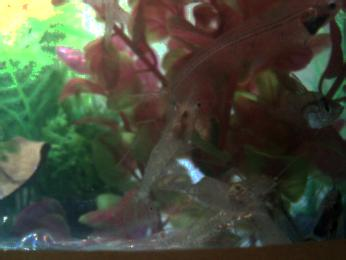glassfish: (143, 1, 346, 117)
siberian prawn: (132, 96, 201, 220), (159, 171, 271, 217)
